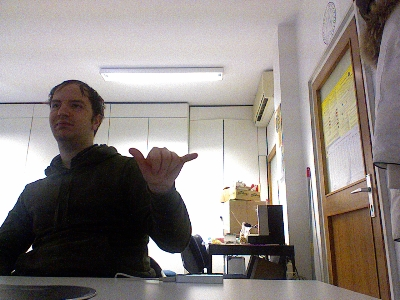六六六: (126, 143, 198, 188)
